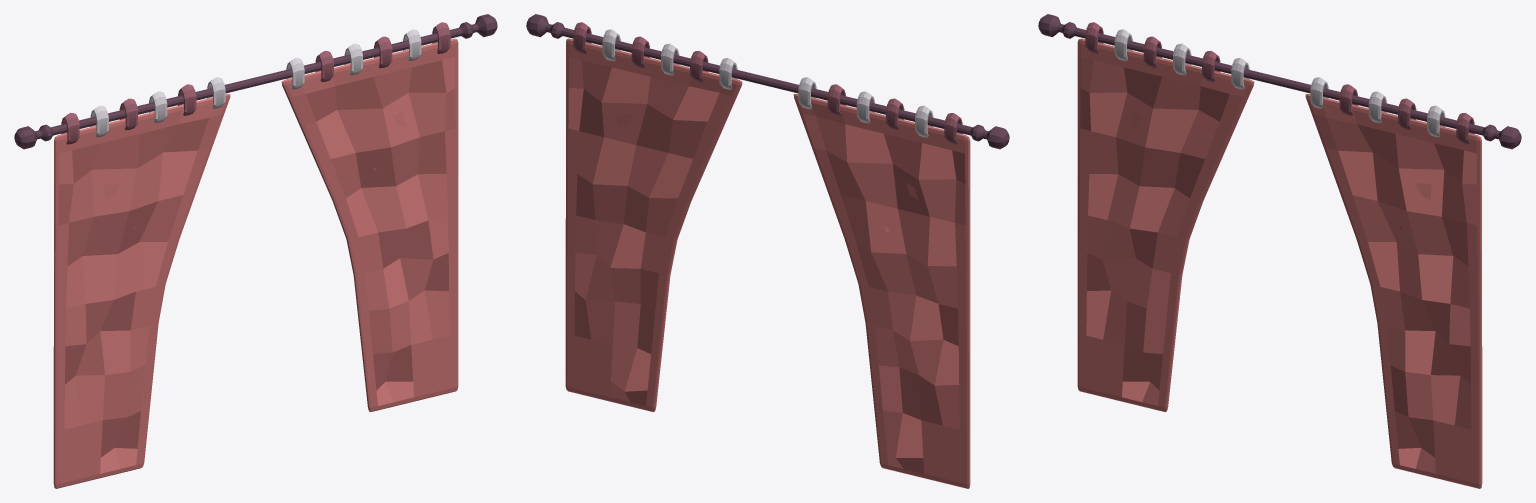
The model's file is Shaders.fbx.
The picture shows the model from 3 angles, left to right: view 1: azimuth 30°, elevation 25°; view 2: azimuth 150°, elevation 25°; view 3: azimuth 330°, elevation 25°; orthographic projection.
Visible parts, largest first — view 1: Shaders; view 2: Shaders; view 3: Shaders.
Part boxes in pixels (left/top/right/bottom): Shaders: left=14, top=14, right=497, bottom=488; Shaders: left=526, top=14, right=1009, bottom=488; Shaders: left=1038, top=14, right=1521, bottom=488.
Size of the model in its own units: 542 by 401 by 25.87.
